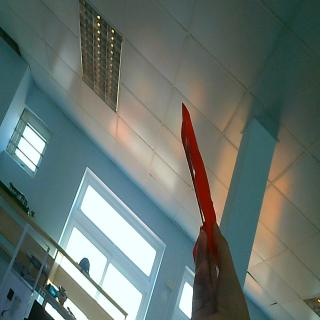Jet: (179, 99, 218, 230)
